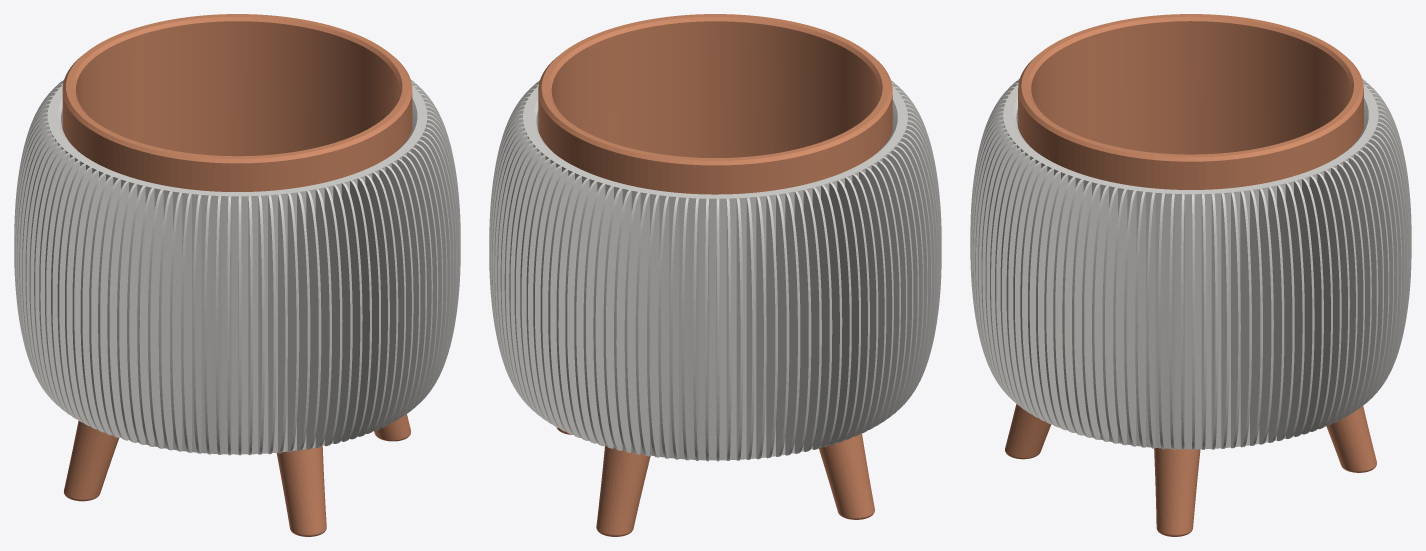
Rendered from stria_orbis_g.glb.
The picture shows the model from 3 angles, left to right: view 1: azimuth 30°, elevation 25°; view 2: azimuth 150°, elevation 25°; view 3: azimuth 270°, elevation 25°; orthographic projection. The views are drawn at different scales.
Visible parts, largest first — view 1: parte_1, parte_2; view 2: parte_1, parte_2; view 3: parte_1, parte_2.
Part boxes in pixels (bbox=[...]): parte_1: bbox=[14, 79, 460, 455]; parte_2: bbox=[62, 14, 412, 536]; parte_1: bbox=[489, 80, 941, 461]; parte_2: bbox=[538, 14, 892, 536]; parte_1: bbox=[970, 79, 1411, 450]; parte_2: bbox=[1005, 14, 1376, 536].
Bounding box in the file's own units: 0.134 × 0.1253 × 0.134.
